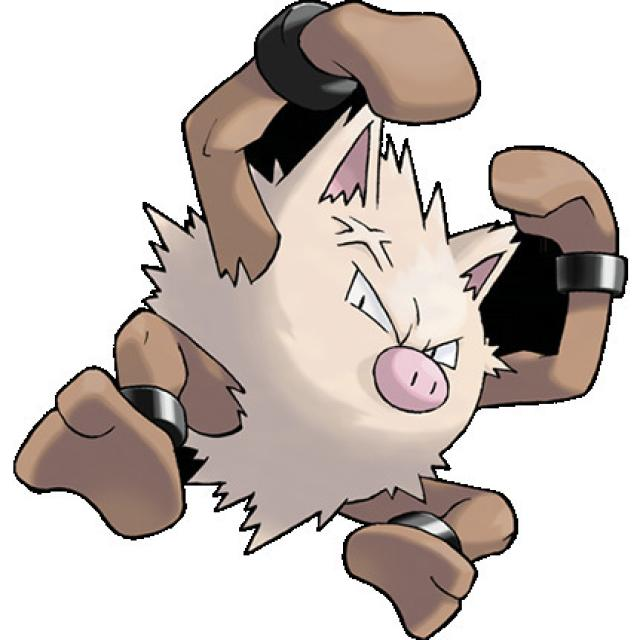Primeape: (141, 60, 582, 558)
